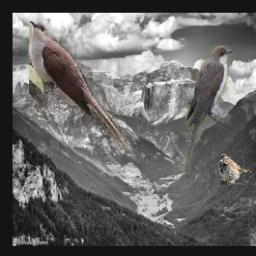Cuckoo: (29, 20, 129, 151), (184, 46, 233, 175)
Sparrow: (219, 154, 256, 186)
